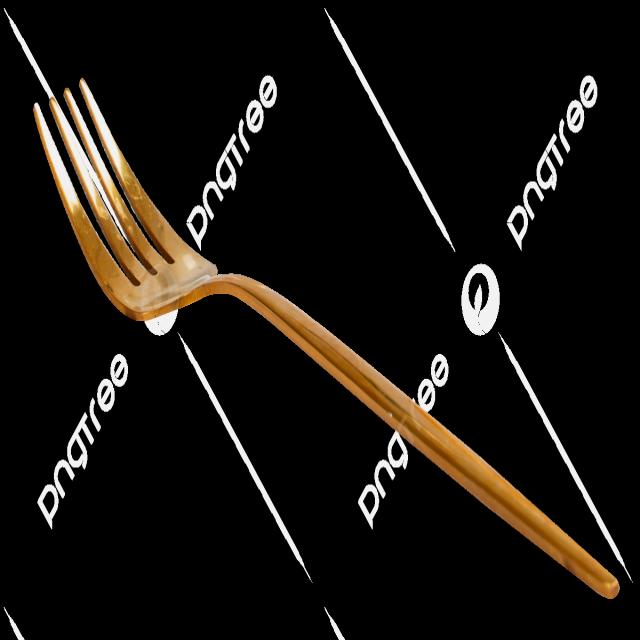Garpu: (22, 80, 630, 618)
